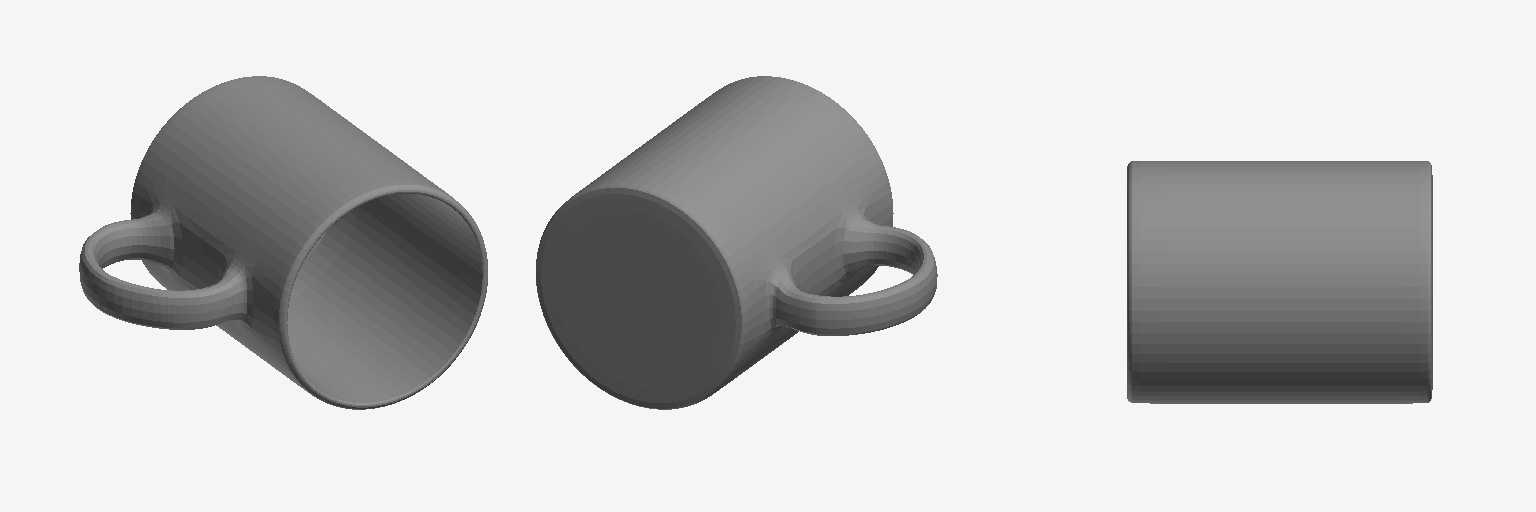
The model's file is mug.obj.
3 views of the same model, side by side, from view 1: azimuth 30°, elevation 25°; view 2: azimuth 150°, elevation 25°; view 3: azimuth 270°, elevation 25° (orthographic).
Visible parts, largest first — view 1: Mug_no_texture; view 2: Mug_no_texture; view 3: Mug_no_texture.
Part boxes in pixels (left/top/right/bottom): Mug_no_texture: left=79, top=76, right=487, bottom=409; Mug_no_texture: left=536, top=76, right=937, bottom=409; Mug_no_texture: left=1127, top=161, right=1432, bottom=403.
Size of the model in its own units: 246 by 163 by 205.